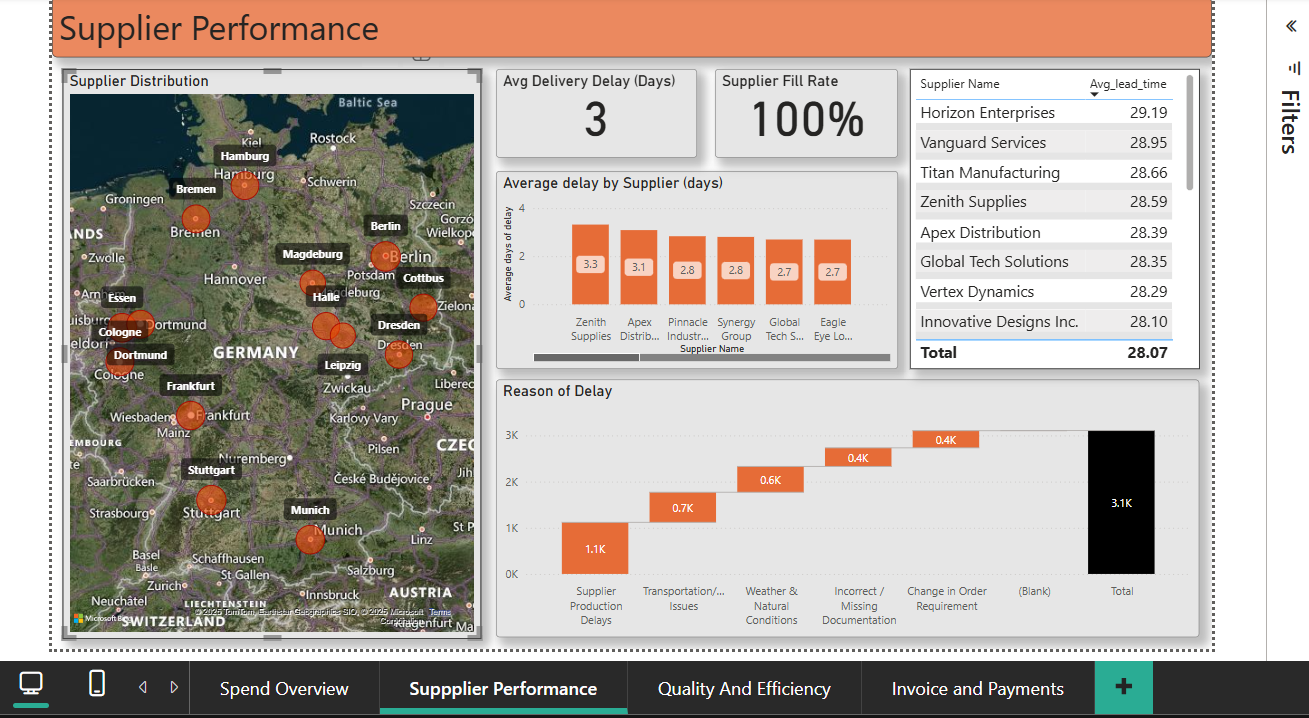

This screenshot's page, from the dashboard's own definition file:
{"tool":"powerbi","page":{"name":"Suppplier Performance","canvas":[1280,720],"ordinal":1},"visuals":[{"type":"map","title":"Supplier Distribution","fields":{"Category":["1744566314664x46629731954938890.Supplier City"],"Size":["Sum(Procurement Data.Total Spend Amount (EUR))"]},"box":[11.6,79.5,462.2,629.5],"z":0},{"type":"lineStackedColumnComboChart","title":"Average delay by Supplier (days)","fields":{"Category":["1744566314664x46629731954938890.Supplier Name"],"Y":["1744566314664x46629731954938890.Average days of delay"]},"box":[490.3,192.2,443.9,218.7],"z":1000},{"type":"textbox","box":[11.6,0,1255.6,66.3],"z":2000},{"type":"card","title":"Supplier Fill Rate","fields":{"Values":["1744566314664x46629731954938890.Supplier Fill rate"]},"box":[732.2,79.5,202.1,97.7],"z":3000},{"type":"waterfallChart","title":"Reason of Delay","fields":{"Category":["1744566314664x46629731954938890.Delay Reason"],"Y":["1744566314664x46629731954938890.Count of delayed deliveries"]},"box":[490.3,422.4,776.9,284.9],"z":4000},{"type":"card","title":"Avg Delivery Delay (Days)","fields":{"Values":["1744566314664x46629731954938890.Average days of delay"]},"box":[490.3,79.5,222,97.7],"z":5000},{"type":"tableEx","fields":{"Values":["Procurement Data.Supplier Name","Procurement Data.Avg_lead_time"]},"box":[947.5,79.5,319.7,331.3],"z":6000}]}

Visuals, with their boxes on the page's 1280x720 design canvas (x1, y1, x2, y2). These are canvas units, not pixel positions in the 1309x718 screenshot, which may show the page scaled, cropped or inside an application window:
"Supplier Distribution" map: 12 80 474 709
"Average delay by Supplier (days)" lineStackedColumnComboChart: 490 192 934 411
textbox: 12 0 1267 66
"Supplier Fill Rate" card: 732 80 934 177
"Reason of Delay" waterfallChart: 490 422 1267 707
"Avg Delivery Delay (Days)" card: 490 80 712 177
tableEx - Procurement Data.Supplier Name x Procurement Data.Avg_lead_time: 948 80 1267 411
